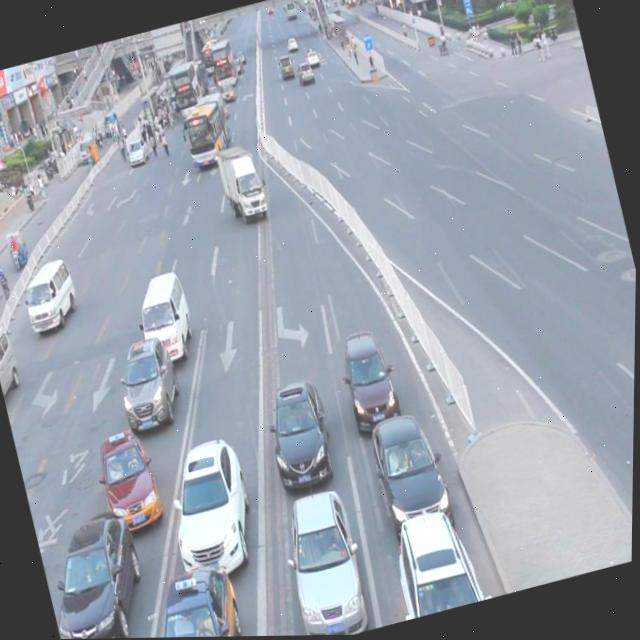bus: (213, 141, 269, 223)
car: (153, 427, 268, 585), (34, 501, 161, 640), (271, 480, 377, 637), (383, 498, 489, 621), (364, 402, 457, 537), (130, 552, 254, 638), (256, 372, 343, 494), (90, 421, 170, 536), (107, 328, 188, 434), (335, 324, 405, 439)
truck: (128, 266, 202, 368), (17, 255, 84, 335), (0, 321, 26, 405)
